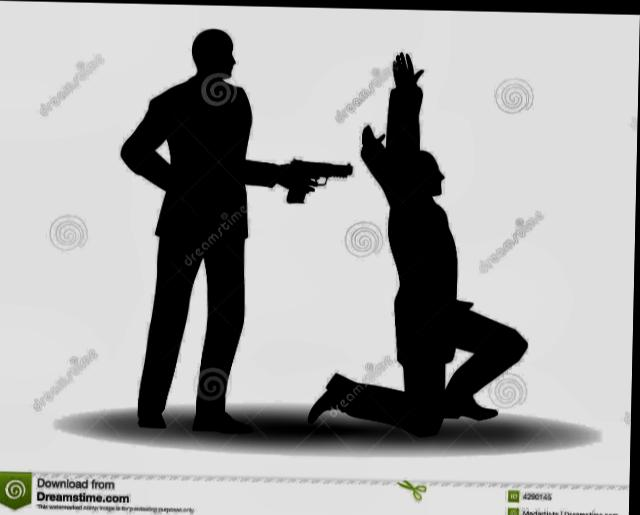pistol: (285, 157, 353, 203)
